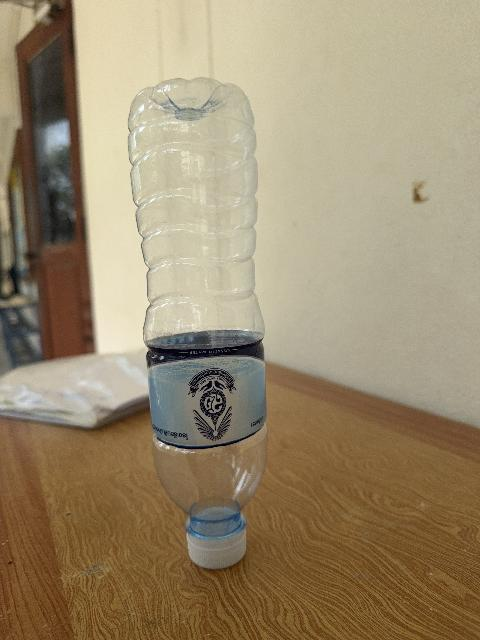bottle: (129, 78, 267, 568)
